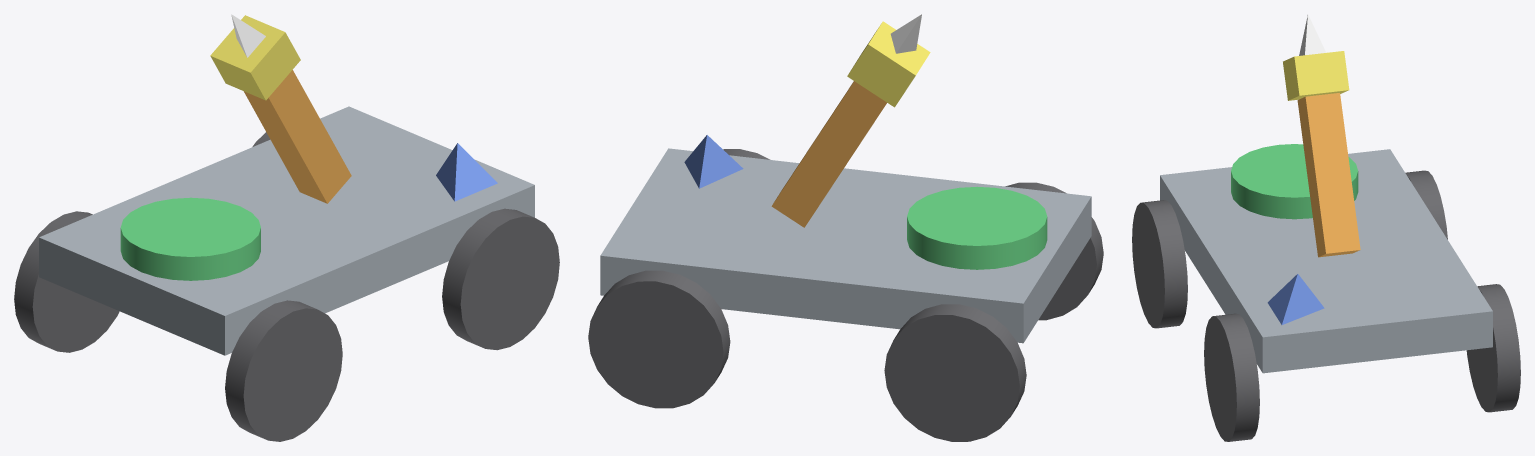
Rendered from review-sample.glb.
3 views of the same model, side by side, from view 1: azimuth 30°, elevation 25°; view 2: azimuth 150°, elevation 25°; view 3: azimuth 270°, elevation 25° (orthographic). The views are drawn at different scales.
Visible parts, largest first — view 1: base, wheel_FL, wheel_RL, spare, arm, wheel_RR, arm_tip, lamp; view 2: base, wheel_FR, wheel_RR, spare, arm, arm_tip, wheel_RL, lamp; view 3: base, arm, wheel_RL, wheel_FL, spare, wheel_FR, arm_tip, lamp, wheel_RR.
Boxes of the visible parts, box(x1,y1,x2,y2) form: base: box(39, 106, 534, 355); wheel_FL: box(442, 208, 559, 350); wheel_RL: box(225, 300, 342, 441); spare: box(120, 197, 260, 280); arm: box(244, 70, 351, 203); wheel_RR: box(14, 211, 119, 352); arm_tip: box(210, 14, 300, 100); lamp: box(436, 143, 497, 201); base: box(600, 148, 1091, 343); wheel_FR: box(588, 270, 730, 408); wheel_RR: box(884, 304, 1026, 441); spare: box(907, 186, 1047, 269); arm: box(771, 81, 886, 227); arm_tip: box(847, 14, 930, 107); wheel_RL: box(1005, 182, 1103, 320); lamp: box(684, 135, 743, 188); base: box(1160, 149, 1492, 373); arm: box(1297, 93, 1360, 257); wheel_RL: box(1132, 200, 1187, 328); wheel_FL: box(1204, 313, 1259, 441); spare: box(1231, 144, 1358, 219); wheel_FR: box(1466, 284, 1520, 412); arm_tip: box(1283, 14, 1349, 100); lamp: box(1267, 274, 1324, 324); wheel_RR: box(1405, 170, 1447, 239).
Bounding box in the file's own units: 2.35 × 1.78 × 1.96.
